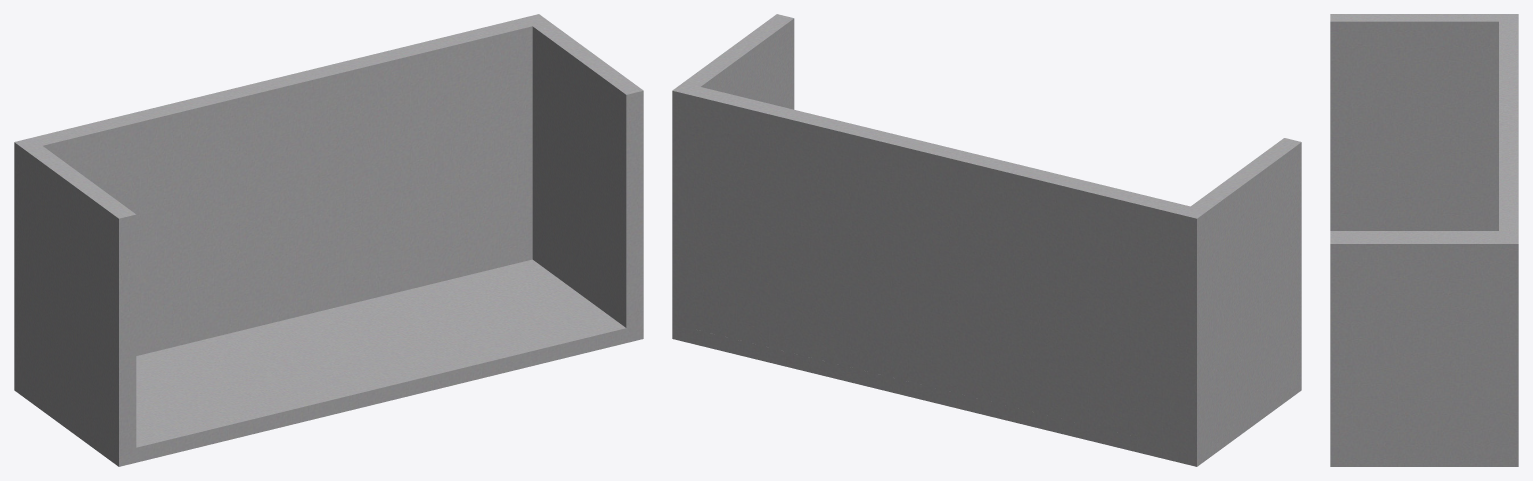
The picture shows the model from 3 angles, left to right: view 1: azimuth 30°, elevation 25°; view 2: azimuth 150°, elevation 25°; view 3: azimuth 270°, elevation 25°; orthographic projection. The views are drawn at different scales.
Visible parts, largest first — view 1: 内柜1; view 2: 内柜1; view 3: 内柜1.
Boxes of the visible parts, box(x1,y1,x2,y2) form: 内柜1: box(14, 14, 643, 466); 内柜1: box(672, 14, 1301, 466); 内柜1: box(1330, 14, 1518, 466).
Bounding box in the file's own units: 0.9001 × 0.4068 × 0.3112.
1 material, 1 textured.
